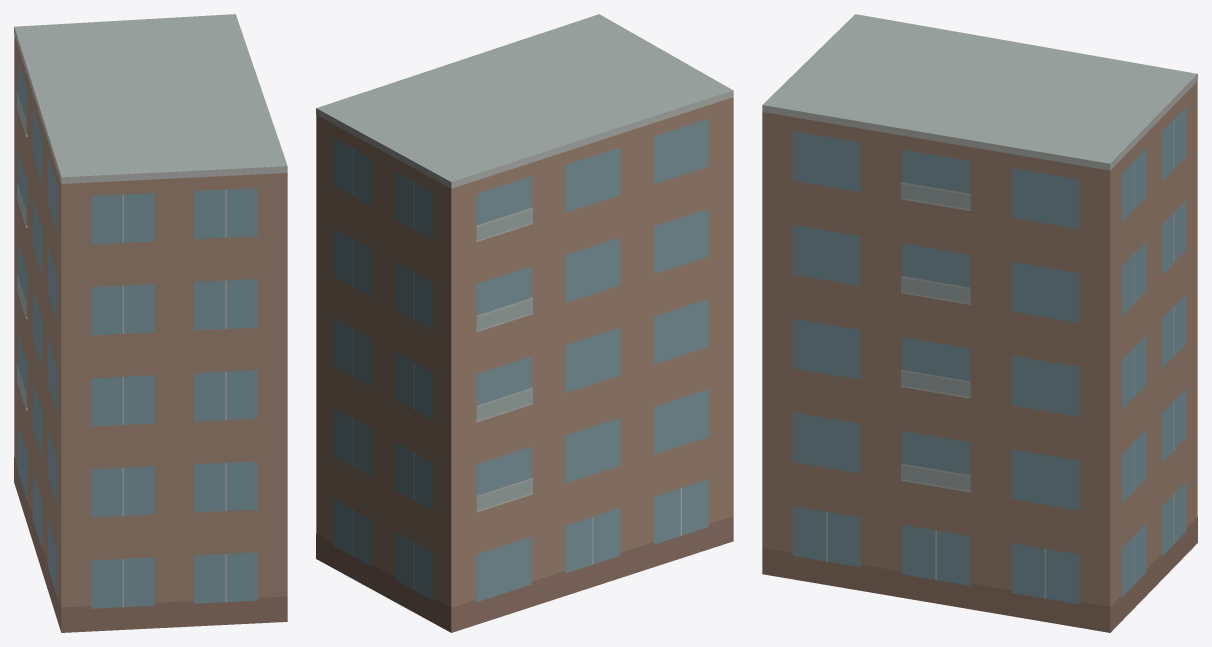
File: survey-upis-32970706.glb
3 views of the same model, side by side, from view 1: azimuth 30°, elevation 25°; view 2: azimuth 150°, elevation 25°; view 3: azimuth 270°, elevation 25° (orthographic). The views are drawn at different scales.
Parts seen in each view (by area): view 1: survey-upis-32970706.tmp; view 2: survey-upis-32970706.tmp; view 3: survey-upis-32970706.tmp.
Part boxes in pixels (bbox=[...]): survey-upis-32970706.tmp: bbox=[14, 14, 287, 632]; survey-upis-32970706.tmp: bbox=[316, 14, 733, 632]; survey-upis-32970706.tmp: bbox=[762, 14, 1197, 632].
Bounding box in the file's own units: 11.45 × 16.7 × 14.06.
